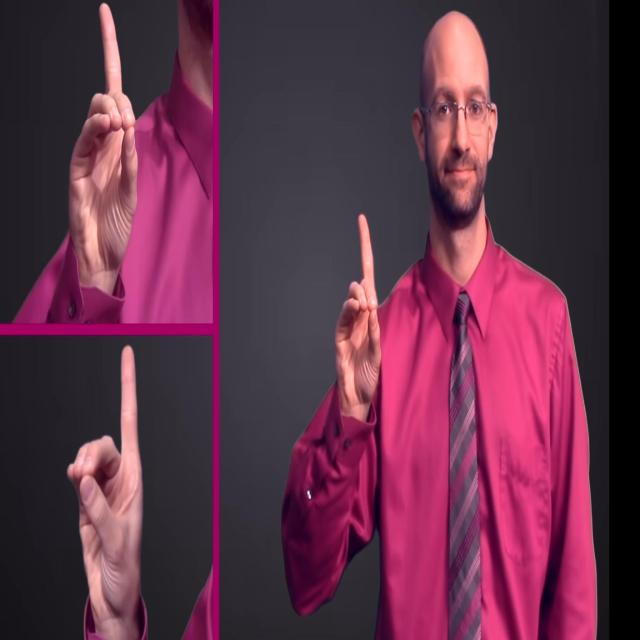D: (64, 338, 147, 626), (61, 0, 142, 278), (334, 212, 384, 412)
